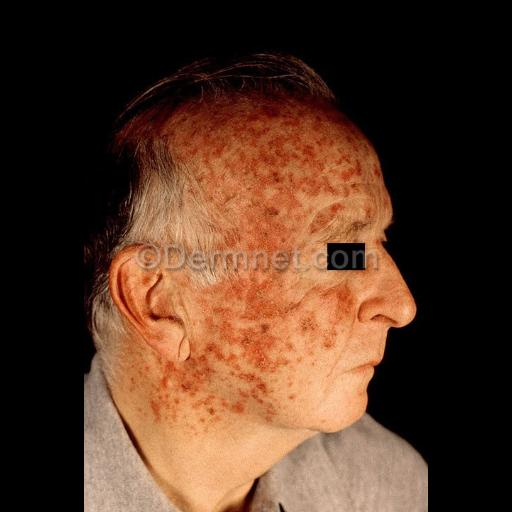Skin_Lesion: (241, 330, 279, 380), (169, 364, 213, 406), (193, 101, 243, 137), (224, 169, 268, 205), (212, 284, 242, 326), (327, 118, 359, 156), (252, 107, 284, 143), (296, 110, 316, 162), (250, 272, 272, 314), (262, 210, 284, 250), (302, 163, 326, 199), (248, 382, 276, 412), (336, 284, 356, 324), (300, 309, 320, 345), (328, 194, 350, 222), (207, 334, 227, 362), (272, 168, 292, 192), (346, 160, 364, 182), (228, 399, 246, 417), (152, 394, 162, 426), (212, 146, 224, 162)
